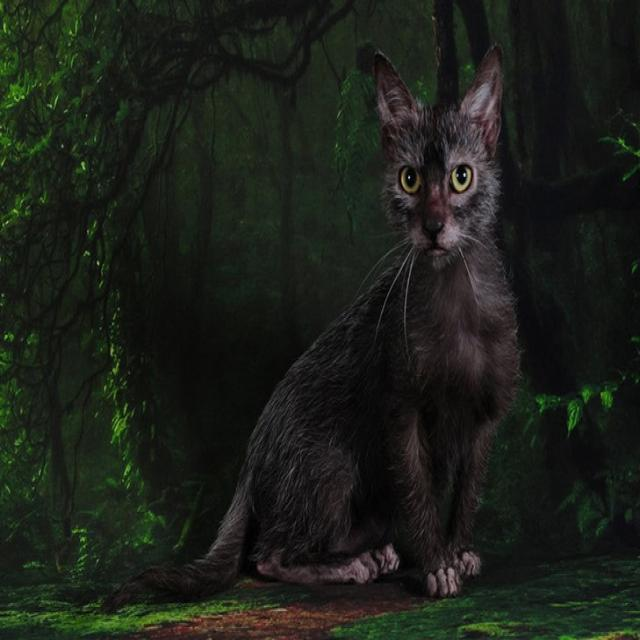Lykoi: (97, 40, 529, 618)
